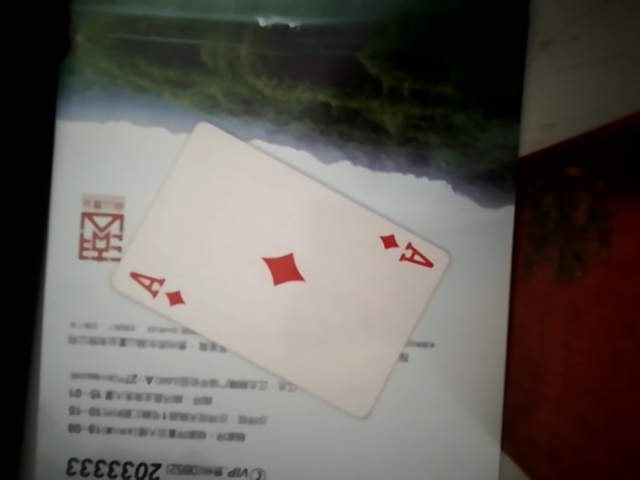fk a: (100, 110, 508, 412)
